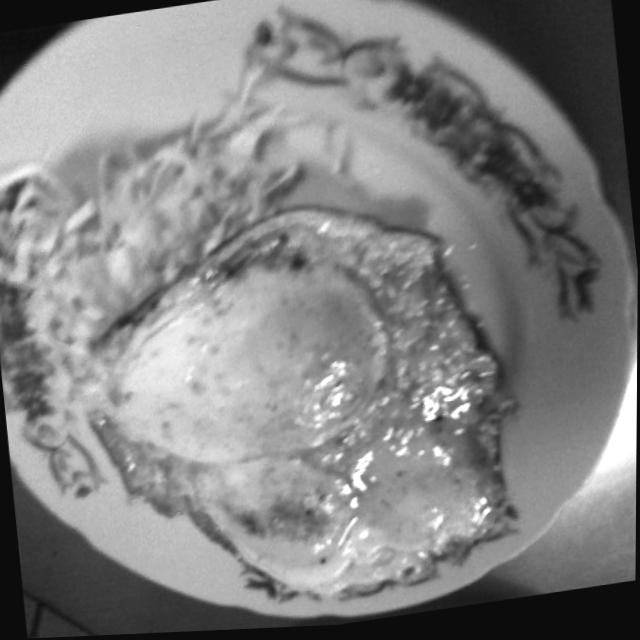鸡蛋料理: (111, 197, 556, 624)
